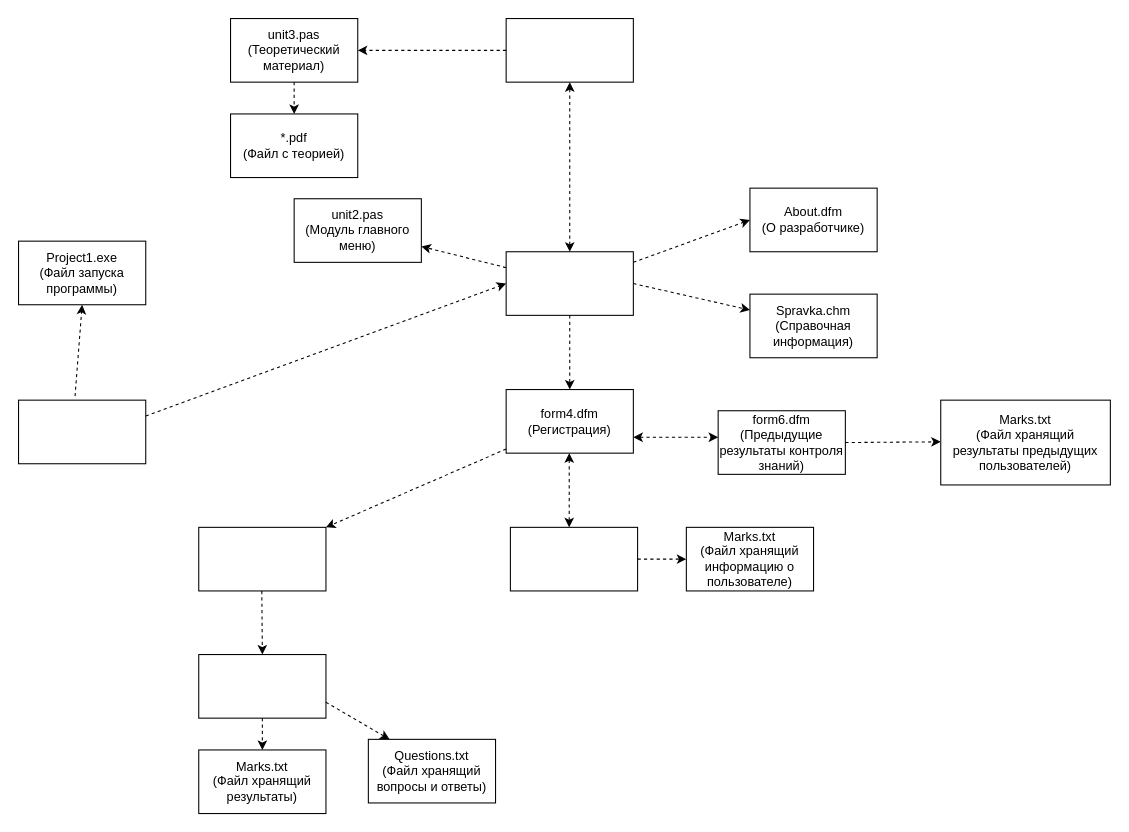
This 1129x832 diagram has some shape labels left out. The centre of each missing label's shape, as x and y in pixels:
"form2.dfm (Главное меню)" goes at pixel 569 283.
"form3.dfm (Теоретический материал)" goes at pixel 569 49.
"form5.dfm (Контроль знаний)" goes at pixel 262 558.
"Project1.dpr (Главный файл)" goes at pixel 81 431.
"unit4.pas (Регистрация)" goes at pixel 573 558.
"unit5.pas (Контроль знаний)" goes at pixel 262 685.
